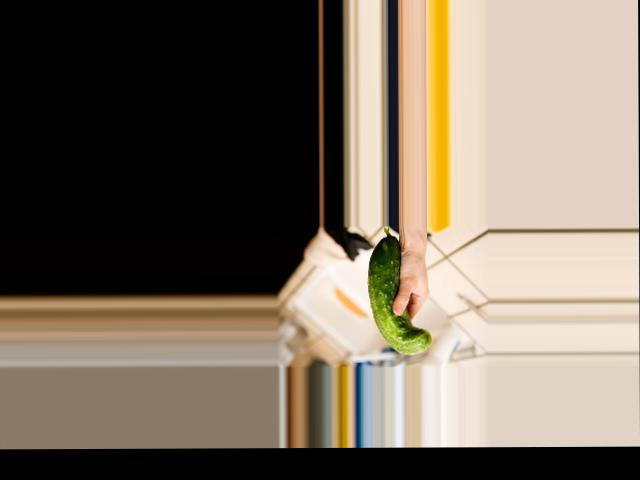cucumber: (366, 227, 431, 354)
